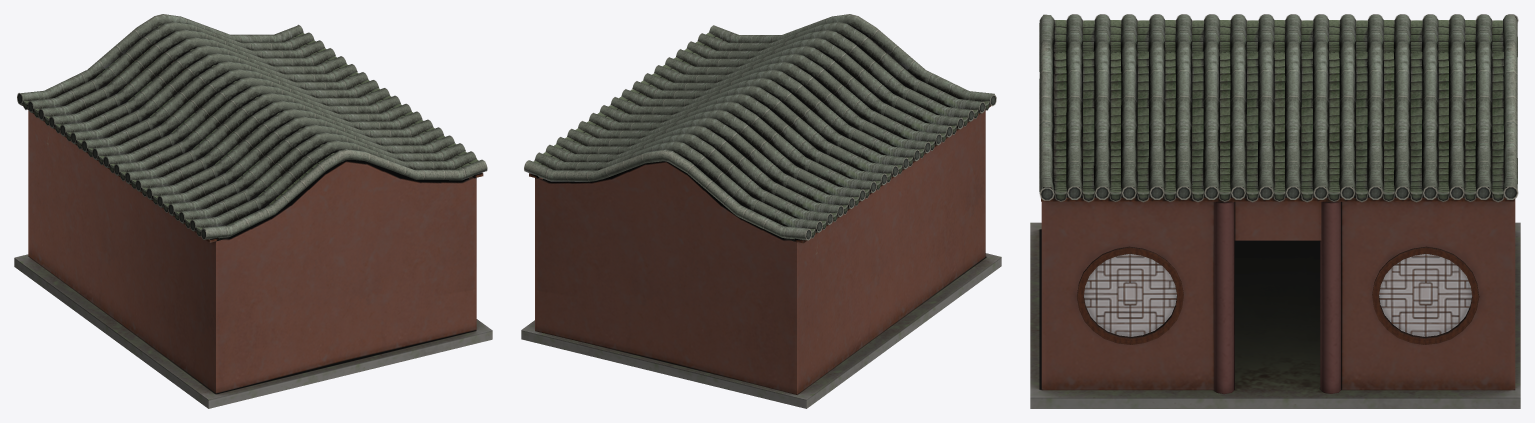
Rendered from small_house (1).glb.
3 renders of one model, left to right at view 1: azimuth 30°, elevation 25°; view 2: azimuth 150°, elevation 25°; view 3: azimuth 270°, elevation 25°, orthographic. The views are drawn at different scales.
Visible parts, largest first — view 1: Object_2; view 2: Object_2; view 3: Object_2.
Boxes of the visible parts, left/top/right/bottom form: Object_2: left=14, top=14, right=492, bottom=408; Object_2: left=521, top=14, right=1001, bottom=408; Object_2: left=1030, top=14, right=1520, bottom=408.
Size of the model in its own units: 32.66 by 24.08 by 38.68.
1 material, 1 textured.
